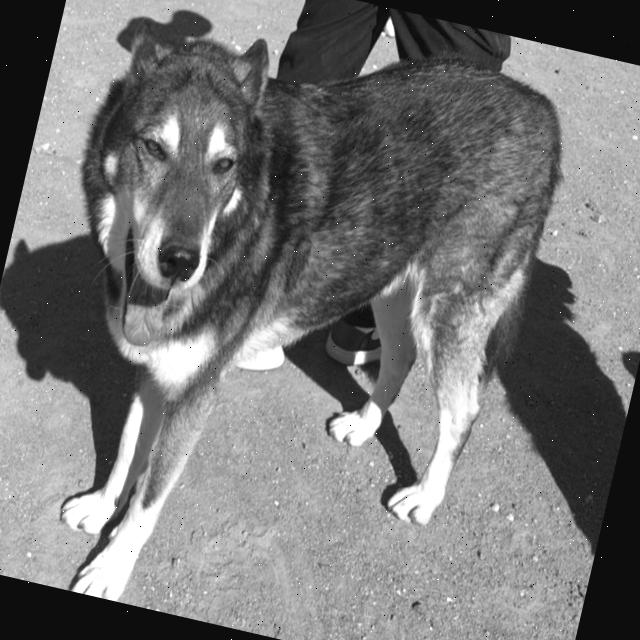siberian_husky_dog: (49, 0, 306, 376)
